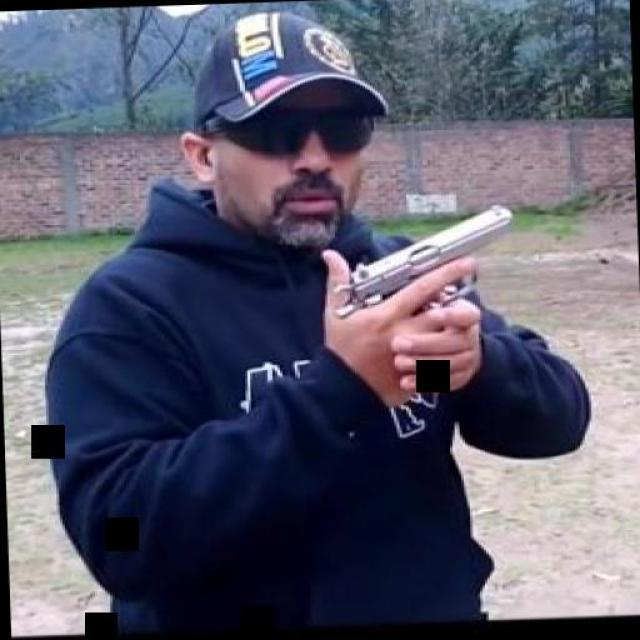gun: (323, 196, 518, 382)
